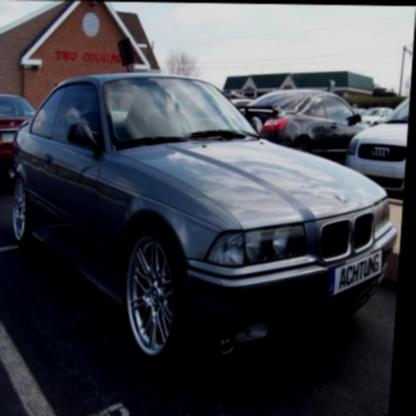License_Plate: (325, 248, 383, 298)
